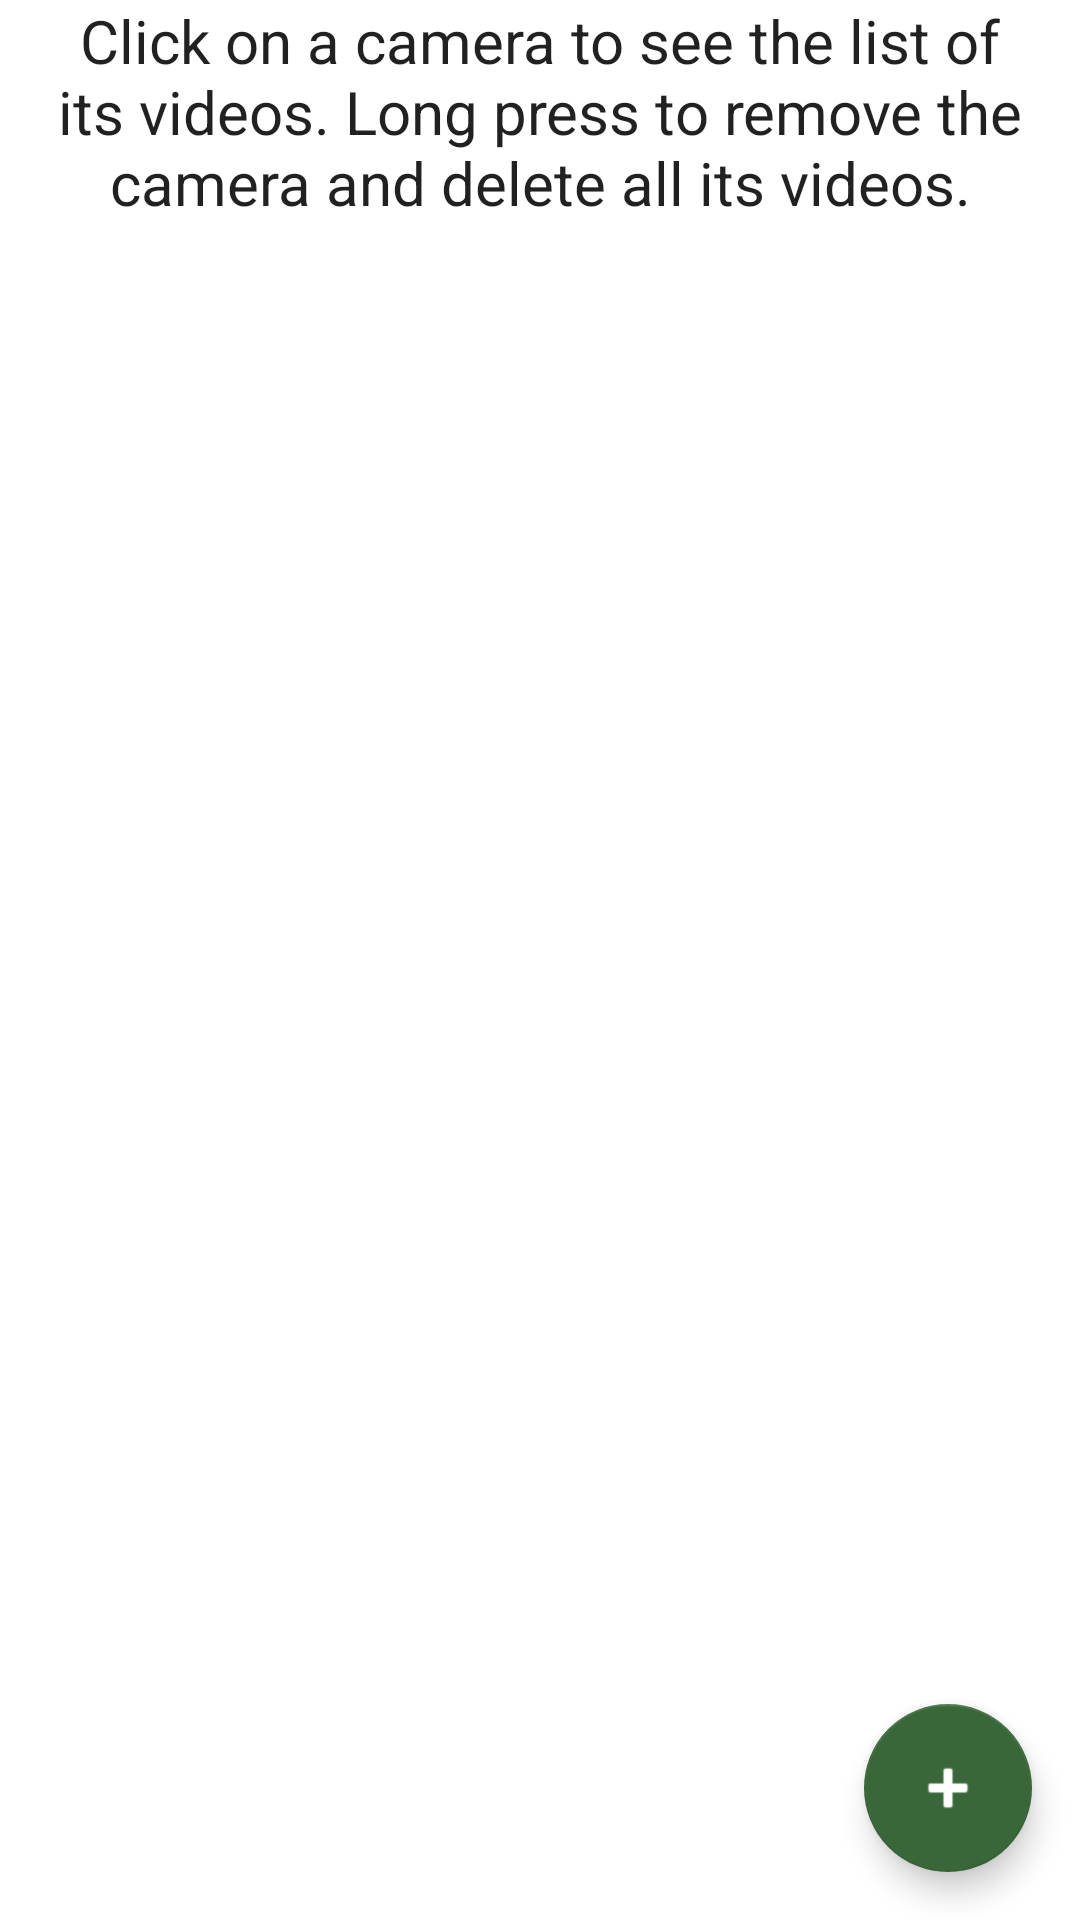

Icon click points for this 1080*1920 phone screenshot, format (x=x, y=y):
Add a camera: (x=948, y=1788)
